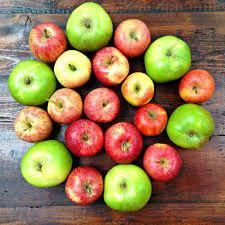Apple: (20, 140, 72, 190), (104, 164, 152, 214), (144, 36, 193, 83), (8, 59, 58, 105), (67, 2, 114, 50), (168, 105, 216, 150), (113, 19, 155, 57), (12, 106, 54, 143), (144, 142, 184, 180), (29, 22, 68, 60), (106, 124, 144, 162), (93, 47, 131, 85), (64, 119, 103, 156), (84, 86, 121, 122)
